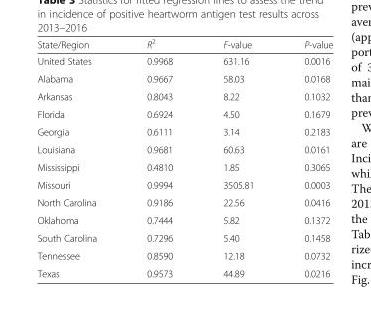table: (36, 36, 332, 278)
table column: (36, 36, 121, 278), (197, 36, 278, 278), (121, 36, 197, 278), (278, 36, 332, 278)
table column header: (36, 36, 332, 52)
table row: (36, 69, 332, 87), (36, 104, 332, 122), (36, 122, 332, 140), (36, 157, 332, 175), (36, 175, 332, 193), (36, 193, 332, 211), (36, 228, 332, 246), (36, 246, 332, 264), (36, 52, 332, 69), (36, 87, 332, 104), (36, 140, 332, 157), (36, 211, 332, 228), (36, 36, 332, 52), (36, 264, 332, 278)
